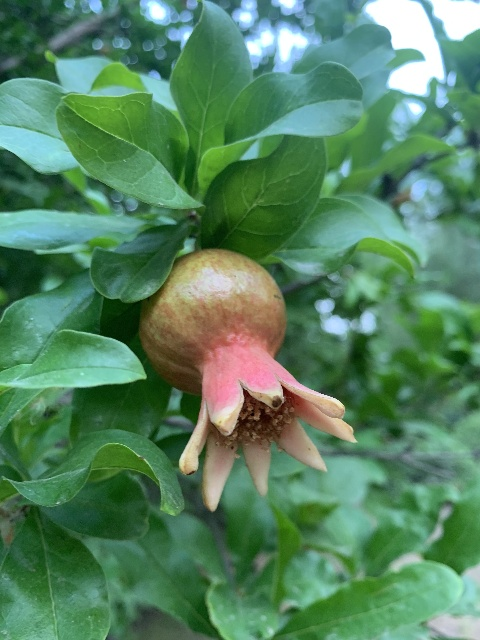early-fruit: (139, 247, 357, 513)
